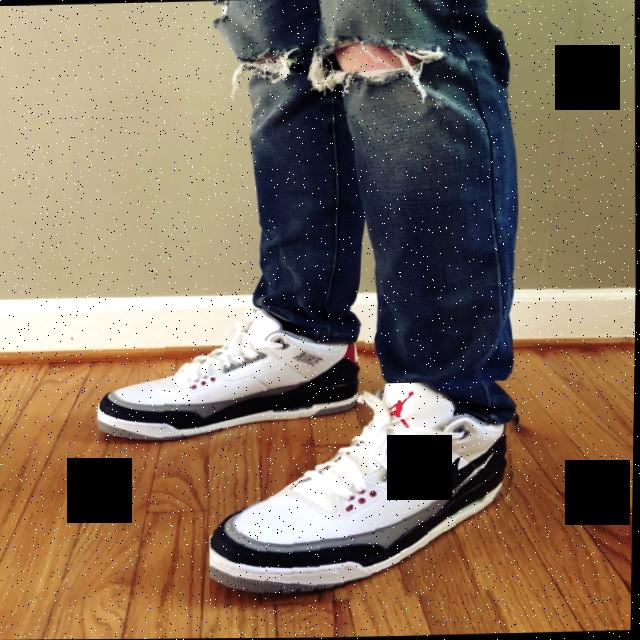shoe: (207, 380, 524, 609), (97, 305, 368, 441)
